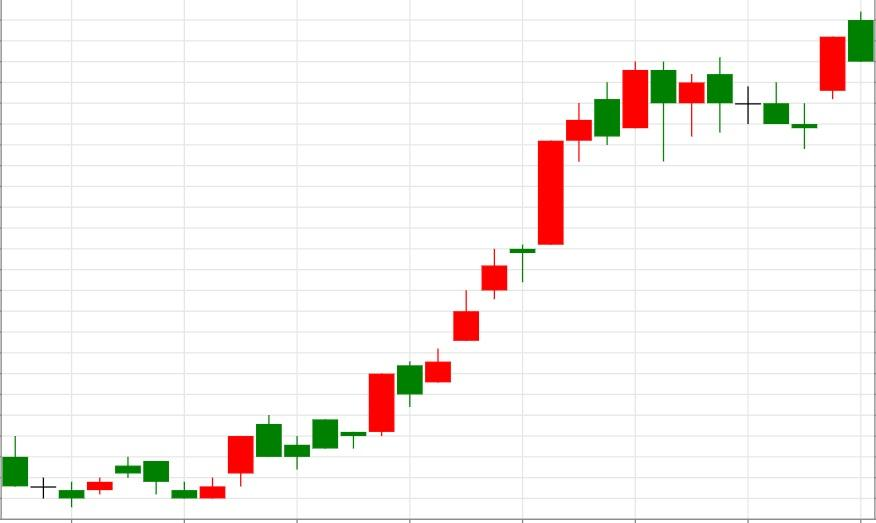bullish_engulfing_rise: (115, 456, 226, 500)
